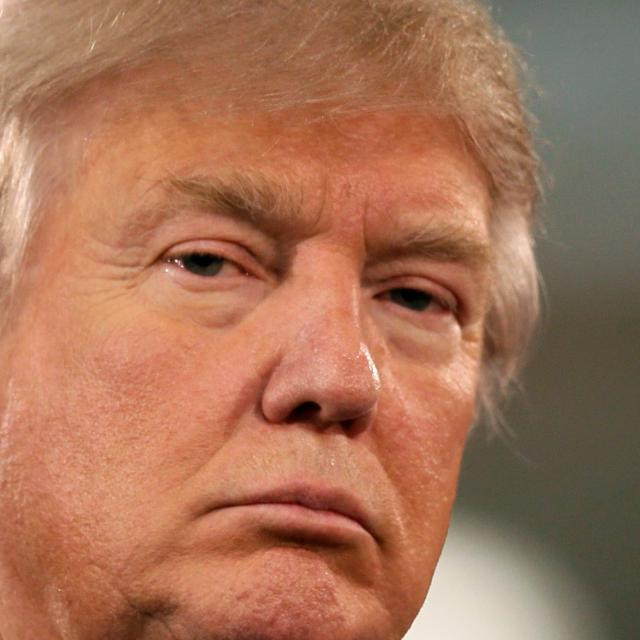Depress: (7, 33, 492, 640)
